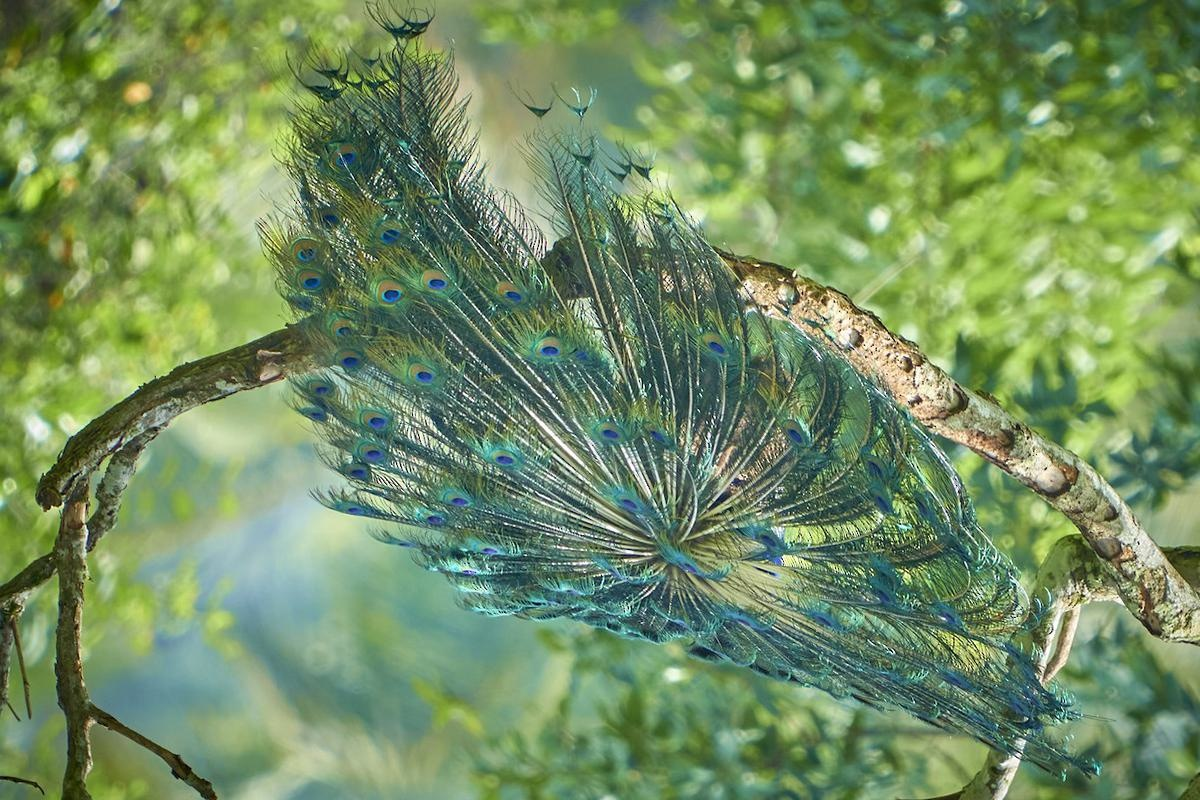peacock: (326, 47, 1020, 703)
